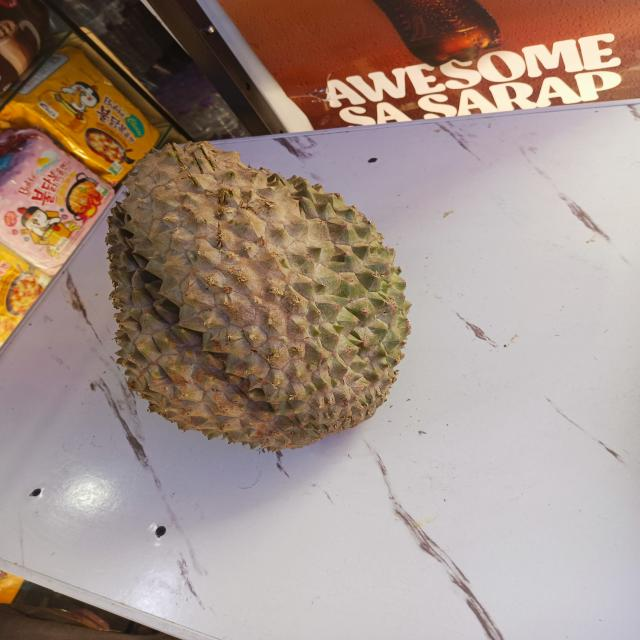mature: (107, 142, 410, 451)
